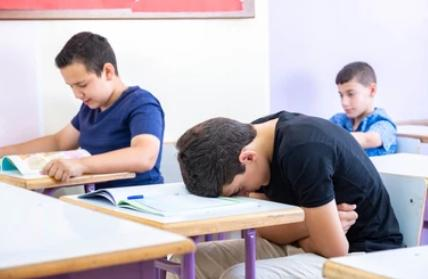sleep: (177, 108, 377, 207)
study: (32, 32, 162, 175), (320, 60, 394, 156)
